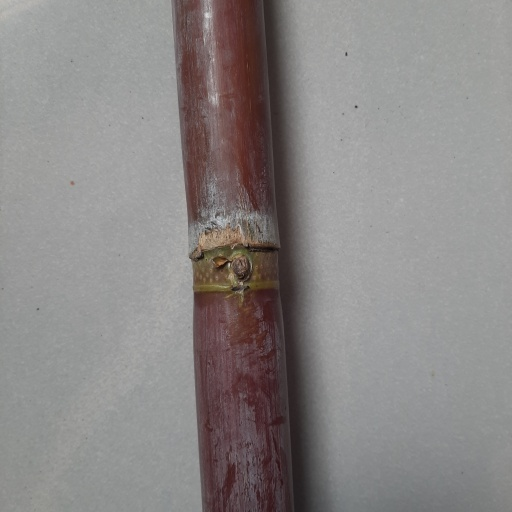Bud: (230, 255, 253, 282)
